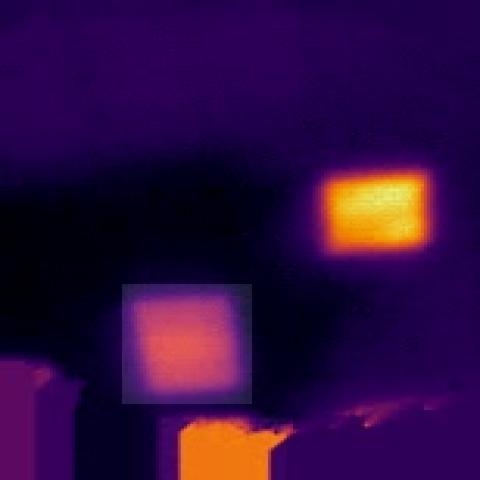fault: (122, 284, 252, 404), (313, 169, 439, 261), (162, 418, 286, 480)
